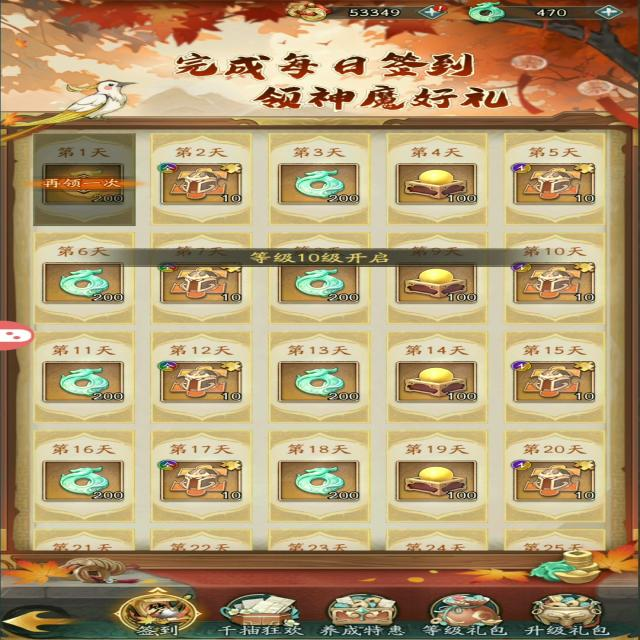hint-reddot: (430, 0, 450, 13)
operation-DevelopSpecialOffers: (321, 586, 414, 636)
operation-GradeGift: (418, 592, 512, 638)
operation-UpgradeGift: (519, 587, 614, 640)
operation-back: (0, 605, 82, 640)
operation-confirm-off: (36, 164, 136, 209)
operation-qianchoukuanghuan: (212, 585, 310, 640)
operation-signin: (102, 584, 206, 640)
